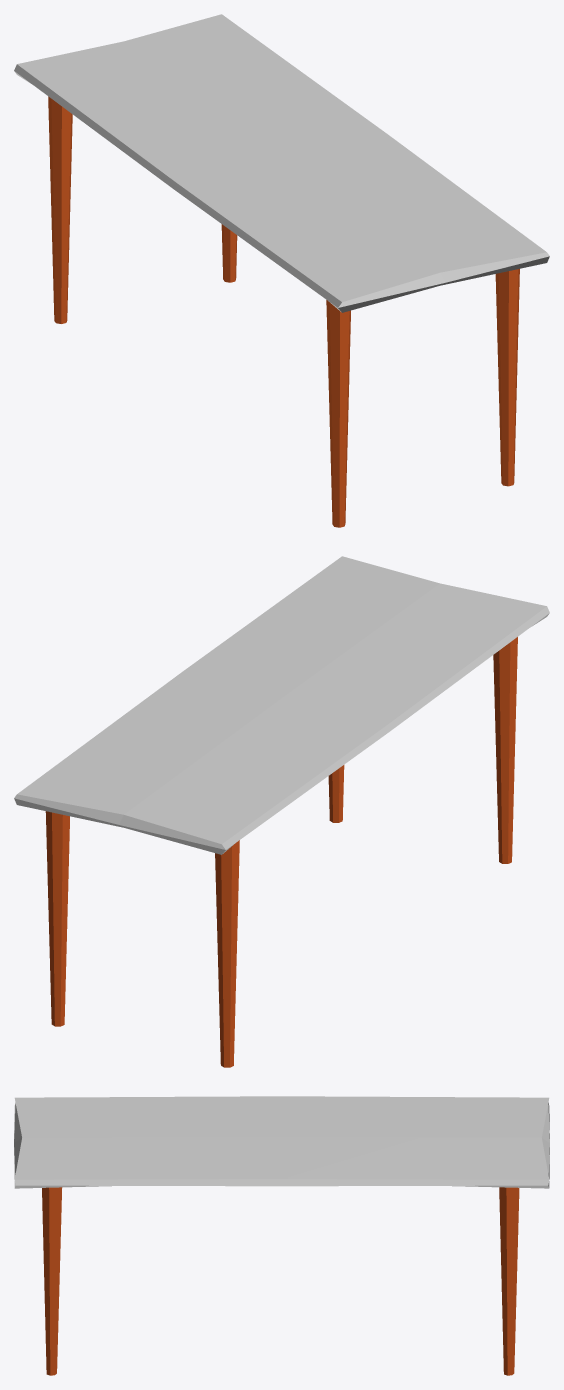
Rendered from Истиный стол.obj.
3 views of the same model, one above another, from view 1: azimuth 30°, elevation 25°; view 2: azimuth 150°, elevation 25°; view 3: azimuth 270°, elevation 25° (orthographic). The views are drawn at different scales.
Visible parts, largest first — view 1: Cube, Cylinder.001, Cylinder.004, Cylinder.002, Cylinder.003; view 2: Cube, Cylinder.004, Cylinder.001, Cylinder.003, Cylinder.002; view 3: Cube, Cylinder.003, Cylinder.002.
Part boxes in pixels (box(x1,y1,x2,y2)): Cube: box(14, 14, 549, 312); Cylinder.001: box(326, 300, 350, 527); Cylinder.004: box(48, 96, 72, 323); Cylinder.002: box(495, 269, 519, 486); Cylinder.003: box(221, 224, 237, 282); Cube: box(14, 556, 549, 854); Cylinder.004: box(215, 840, 239, 1067); Cylinder.001: box(493, 637, 517, 863); Cylinder.003: box(45, 811, 69, 1026); Cylinder.002: box(328, 765, 344, 822); Cube: box(14, 1096, 549, 1188); Cylinder.003: box(499, 1187, 519, 1375); Cylinder.002: box(42, 1187, 62, 1375).
Bounding box in the file's own units: 1.13 × 1.23 × 2.97.
